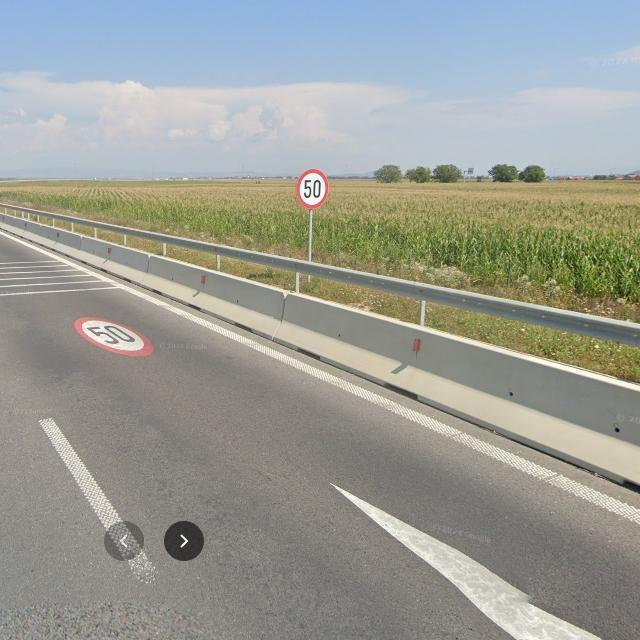forb_speed_over_50: (74, 317, 155, 359), (298, 169, 330, 209)
